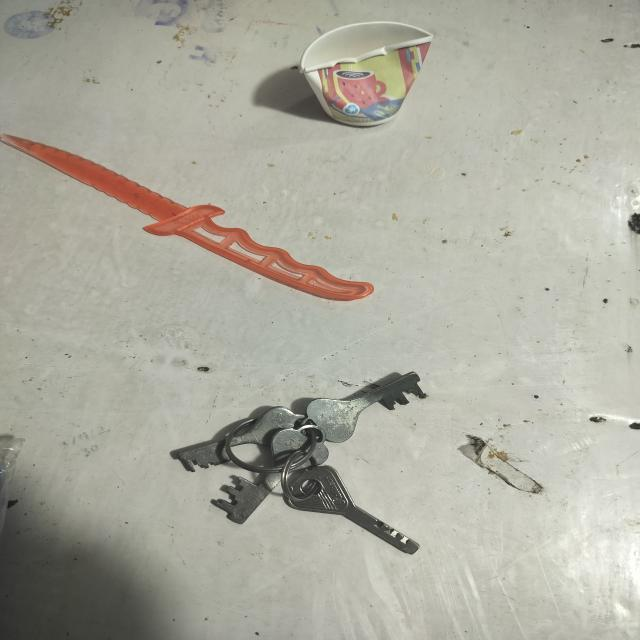dry: (5, 137, 420, 335), (122, 362, 460, 561), (270, 15, 476, 139)
